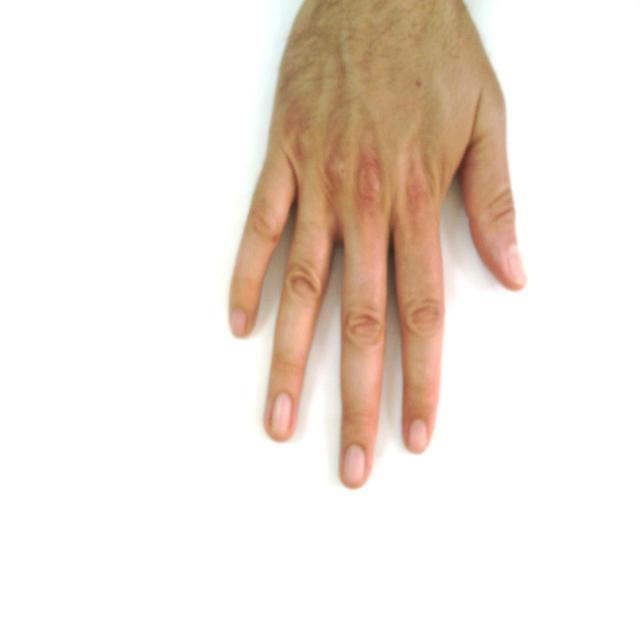Fingernail: (271, 393, 293, 437), (344, 446, 365, 486), (509, 246, 525, 283), (409, 421, 427, 451), (231, 309, 247, 338)
